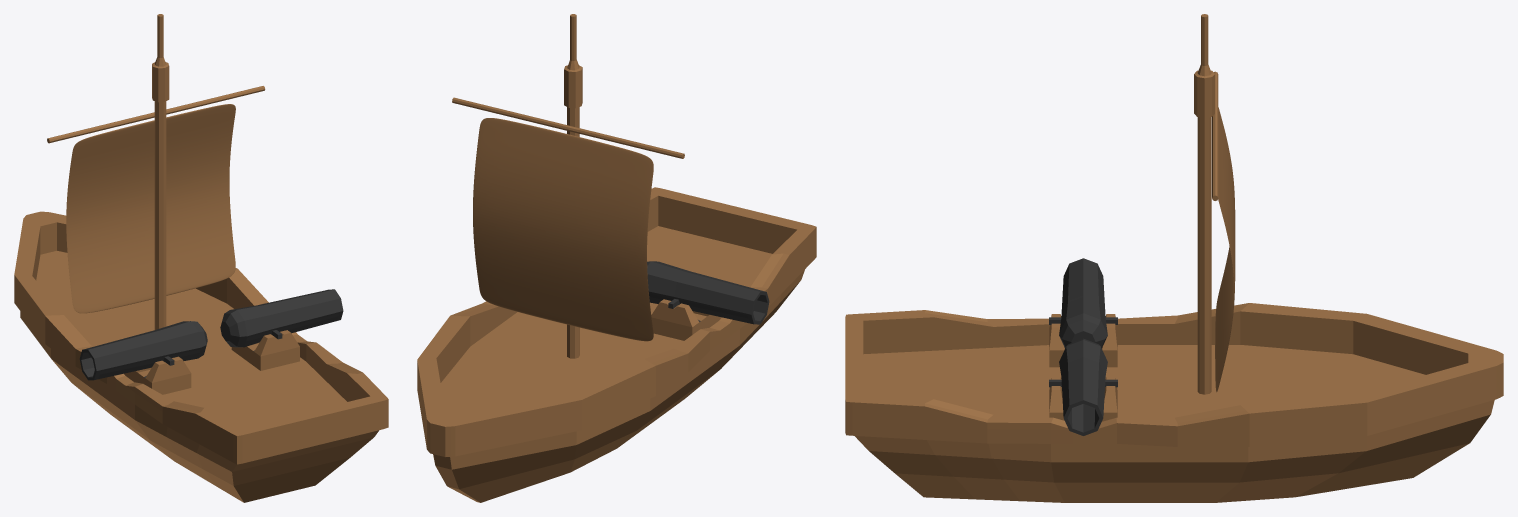
The model's file is pirateship-V2.fbx.
3 views of the same model, side by side, from view 1: azimuth 30°, elevation 25°; view 2: azimuth 150°, elevation 25°; view 3: azimuth 270°, elevation 25° (orthographic). The views are drawn at different scales.
Visible parts, largest first — view 1: Boat, Plane, Canon2, Canon, Cylinder, Cylinder.001; view 2: Boat, Plane, Canon2, Cylinder, Cylinder.001; view 3: Boat, Cylinder, Canon, Canon2, Plane, Cylinder.001.
Boxes of the visible parts, left/top/right/bottom form: Boat: left=14, top=211, right=388, bottom=502; Plane: left=66, top=104, right=235, bottom=313; Canon2: left=79, top=321, right=207, bottom=394; Canon: left=220, top=289, right=343, bottom=370; Cylinder: left=152, top=14, right=169, bottom=329; Cylinder.001: left=47, top=86, right=265, bottom=143; Boat: left=417, top=187, right=816, bottom=502; Plane: left=473, top=118, right=653, bottom=341; Canon2: left=647, top=261, right=769, bottom=340; Cylinder: left=564, top=14, right=582, bottom=358; Cylinder.001: left=452, top=97, right=684, bottom=158; Boat: left=845, top=303, right=1503, bottom=502; Cylinder: left=1194, top=14, right=1214, bottom=394; Canon: left=1049, top=338, right=1117, bottom=435; Canon2: left=1049, top=258, right=1117, bottom=367; Plane: left=1215, top=107, right=1235, bottom=392; Cylinder.001: left=1212, top=71, right=1218, bottom=200.
Size of the model in its own units: 289 by 438 by 567.
